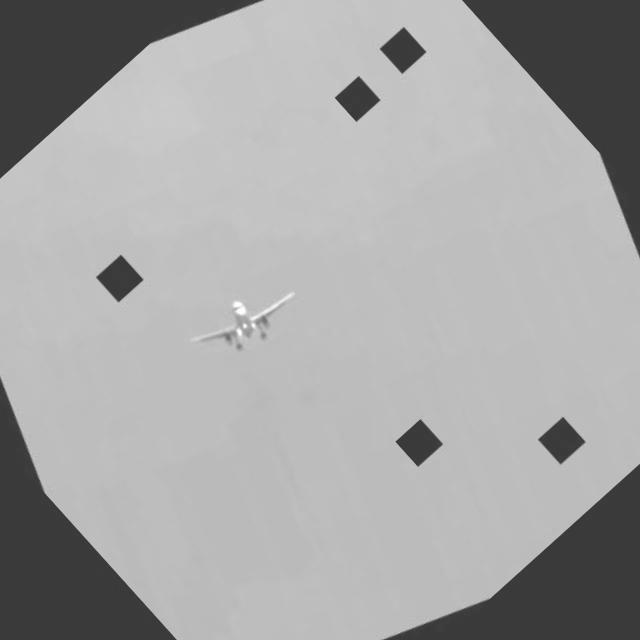aeroplane: (179, 257, 308, 382)
